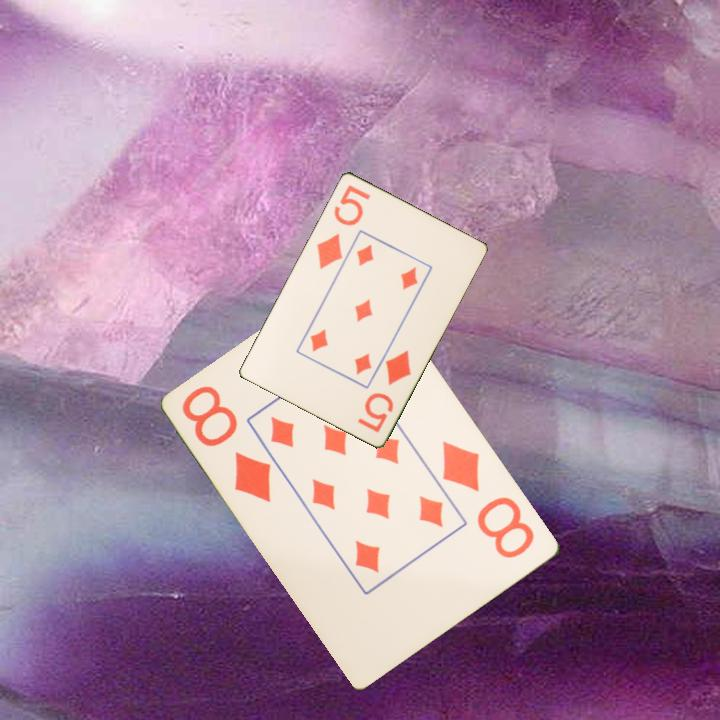5d: (312, 181, 373, 272), (354, 346, 414, 435)
8d: (439, 437, 538, 562), (178, 382, 275, 506)
